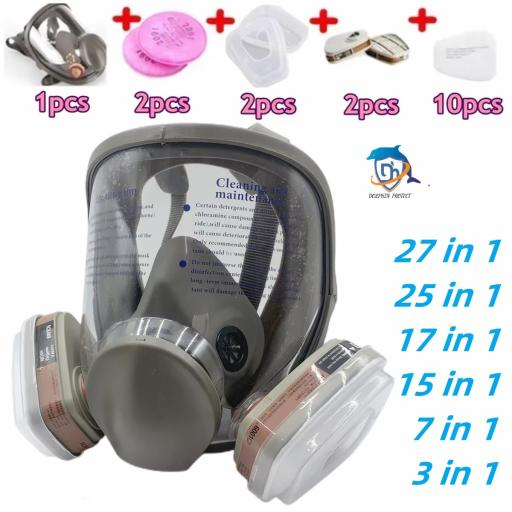mask: (0, 125, 391, 512)
